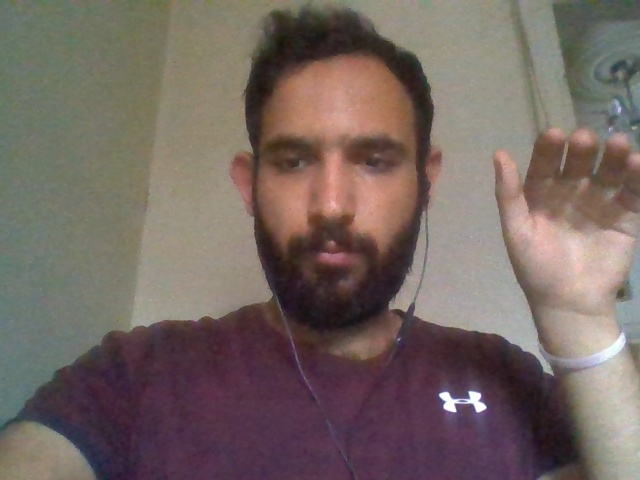Snake: (484, 116, 640, 467)
